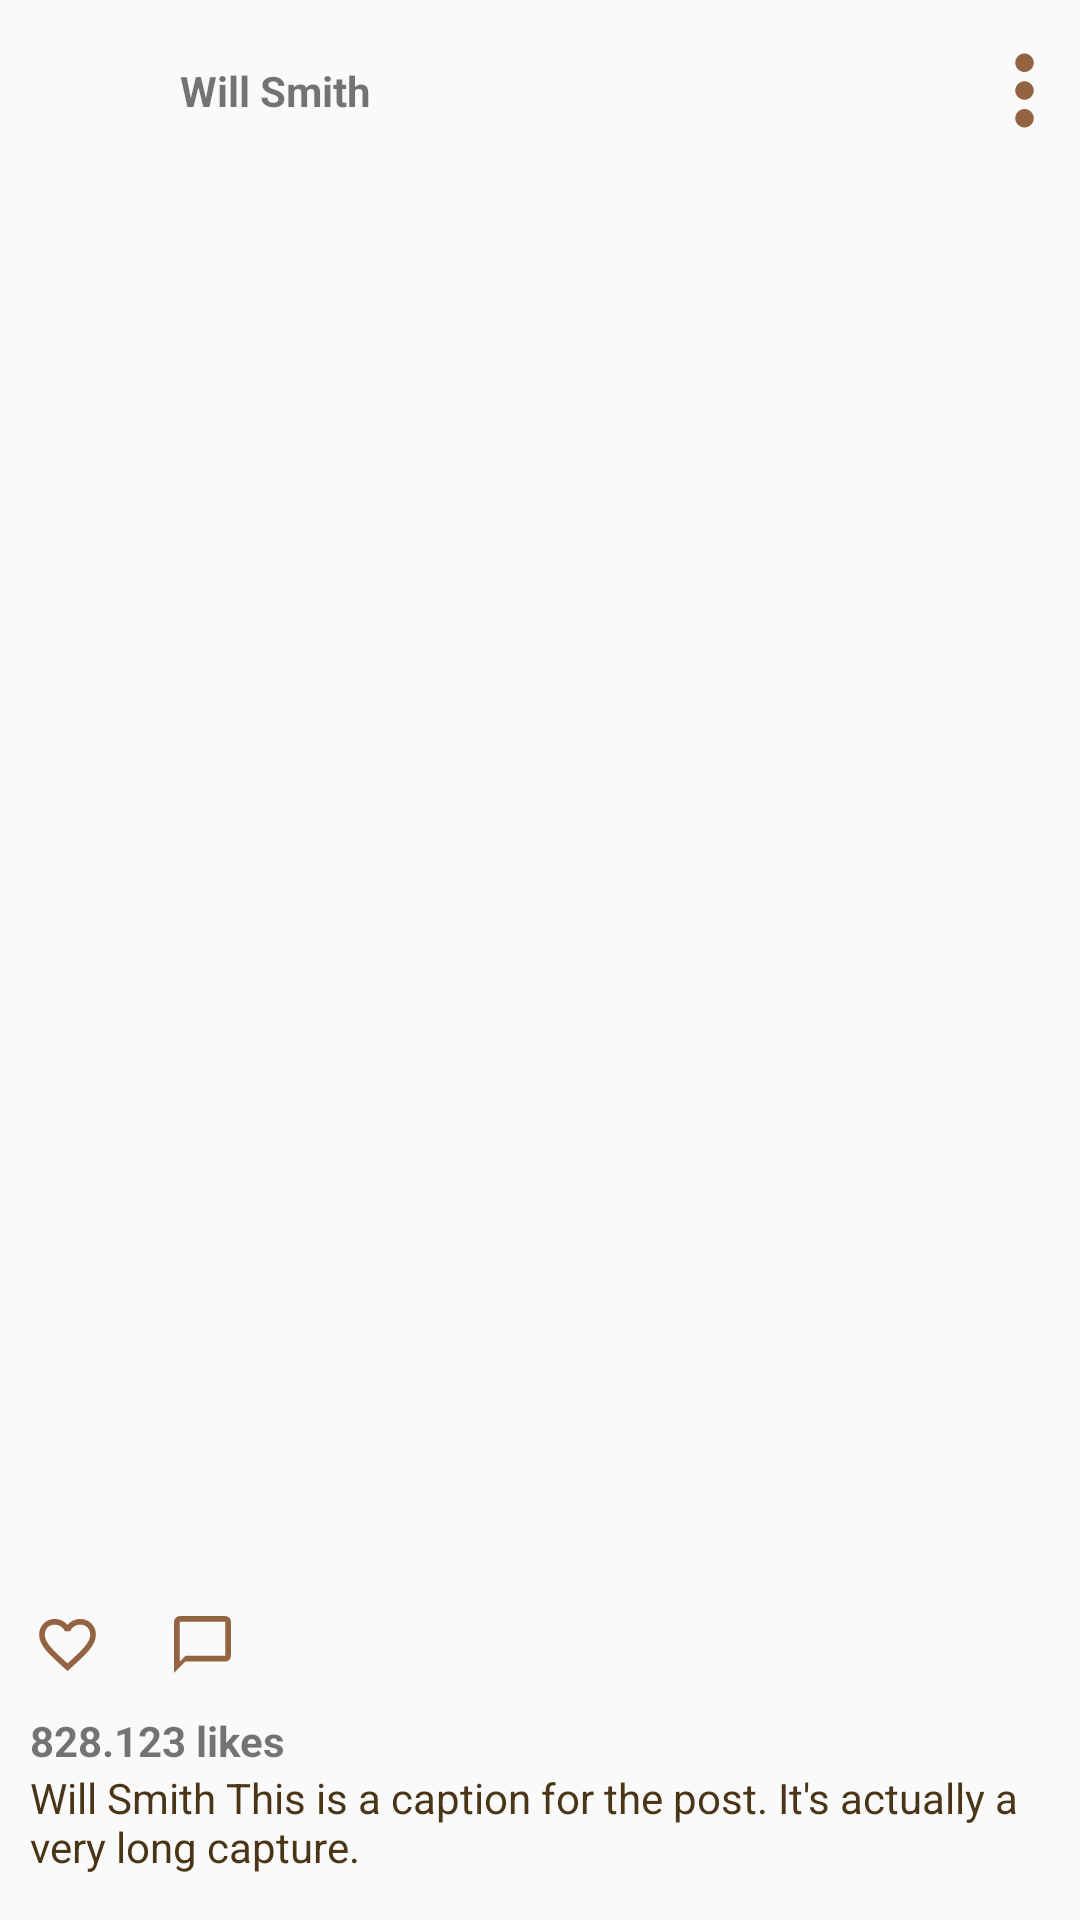

Locate icon controls on the screen. Image size 1080×1920, boxes as box(x1, y1, x2, y2).
comments border: box(174, 1616, 231, 1673)
likes border: box(39, 1619, 96, 1671)
more: box(1015, 53, 1034, 128)
